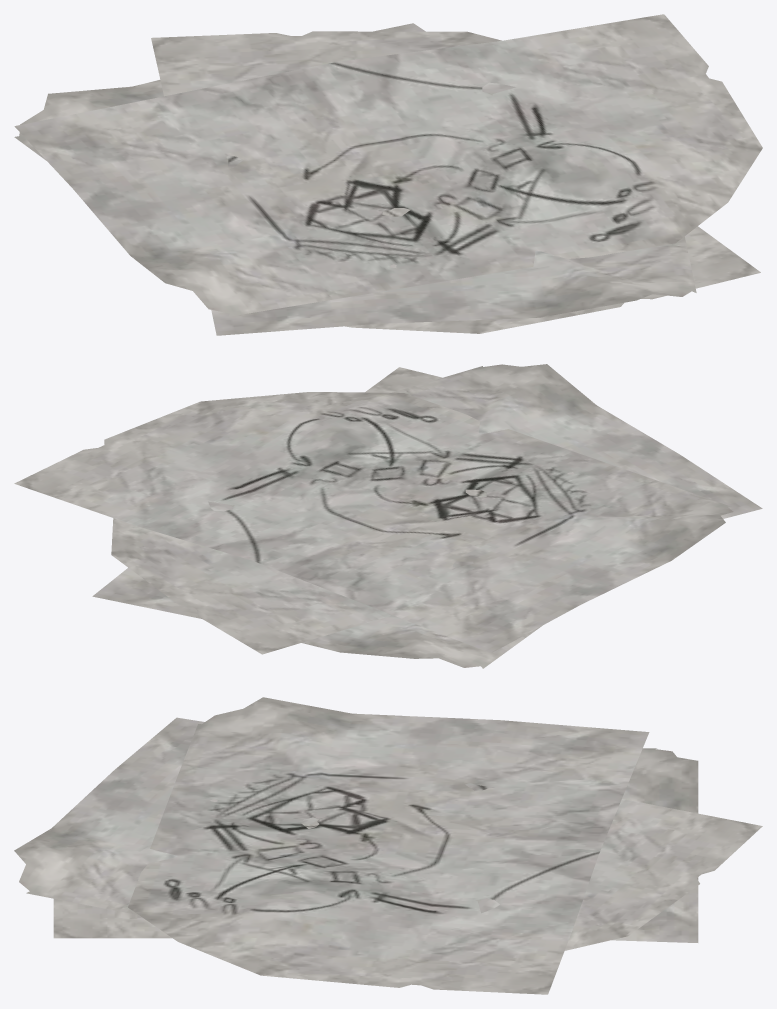
Rendered from paper.worldmodel.glb.
The picture shows the model from 3 angles, top to bottom: view 1: azimuth 30°, elevation 25°; view 2: azimuth 150°, elevation 25°; view 3: azimuth 270°, elevation 25°; orthographic projection. The views are drawn at different scales.
Parts seen in each view (by area): view 1: Paper_LOD0; view 2: Paper_LOD0; view 3: Paper_LOD0.
Part boxes in pixels (left/top/right/bottom): Paper_LOD0: left=14, top=14, right=762, bottom=335; Paper_LOD0: left=14, top=364, right=762, bottom=668; Paper_LOD0: left=14, top=697, right=762, bottom=994.
Size of the model in its own units: 0.5013 by 0.0237 by 0.5377.
Materials: 1 (1 with a texture image).
